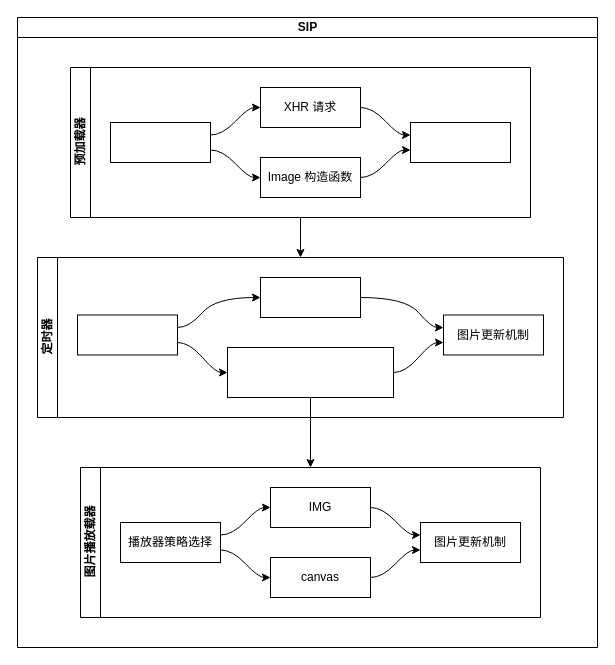
Image size: 615x665. Some labels were removed from this diagram. The centre of each missing label's shape, as x and y in pixels:
"requestAnimationFrame" goes at (x=310, y=372).
"SetInterval" goes at (x=310, y=297).
"定时器策略选择" goes at (x=127, y=334).
"缓存策略" goes at (x=460, y=142).
"预加载策略选择" goes at (x=160, y=142).
